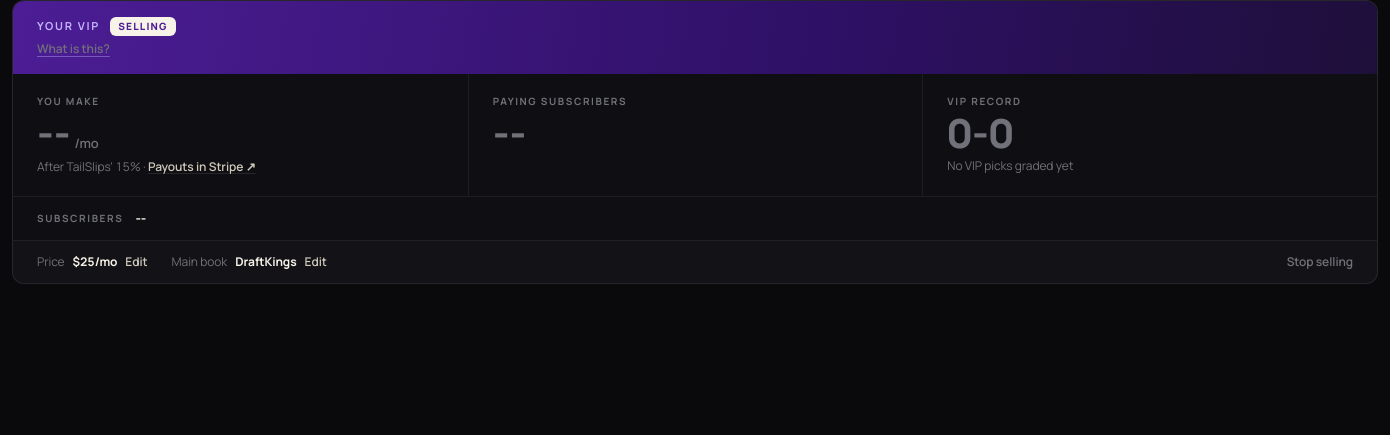
it: SellerStrip › keep selling closes the panel
Click the button "Stop selling" at (1320, 262), box [1287, 253, 1353, 271]
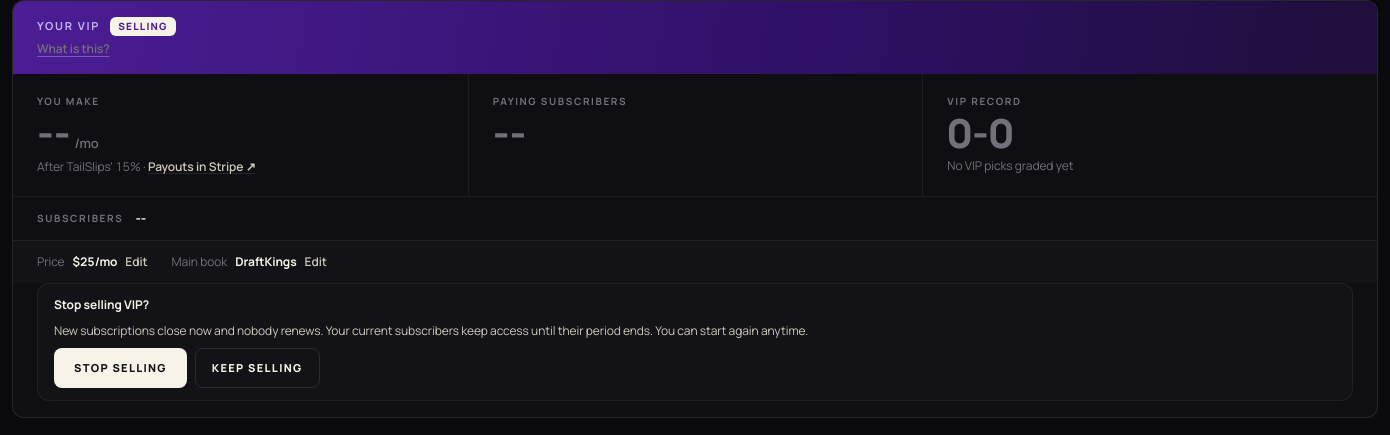
Click the button "Keep selling" at (257, 368), box [195, 348, 320, 388]
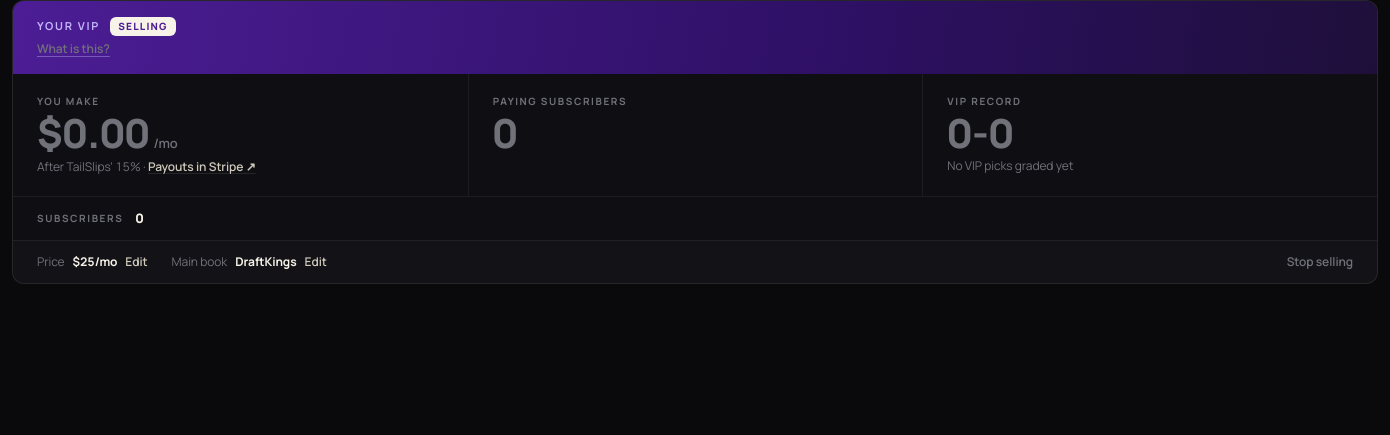
Expected: the button "Stop selling" is shown, [1287, 253, 1353, 271]
Expected: the text "Stop selling VIP?" is gone
